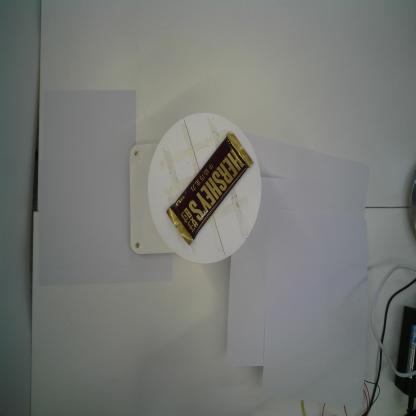Chocolate: (165, 130, 254, 247)
